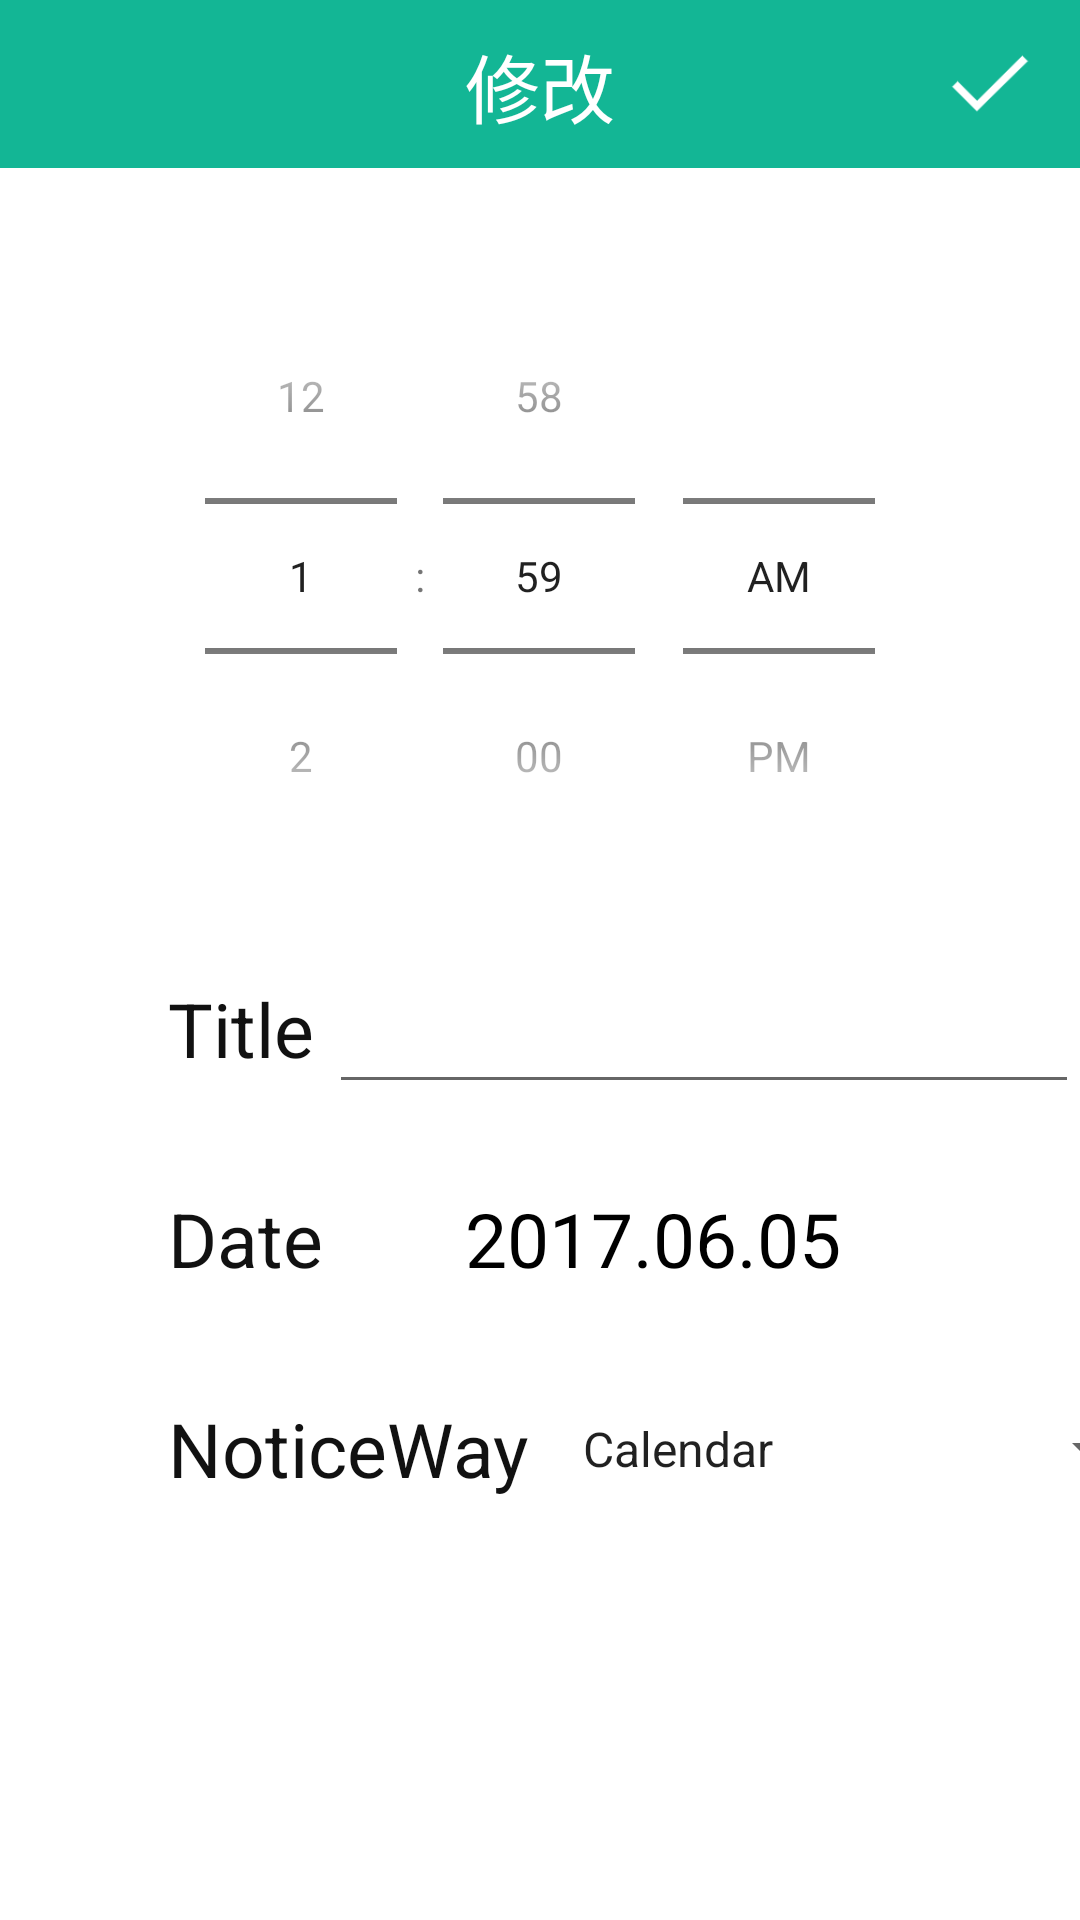

Icon click points for this 1080x1920 phone screenshot, format point (x, y):
finish: point (990, 83)
